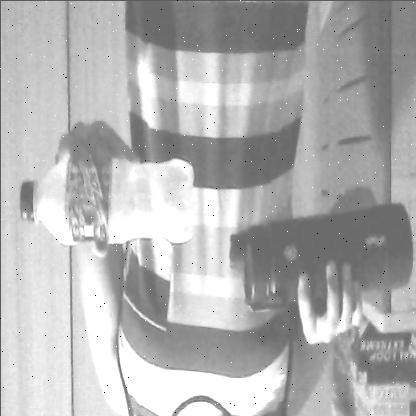Plastic Bottle: (13, 134, 200, 266)
